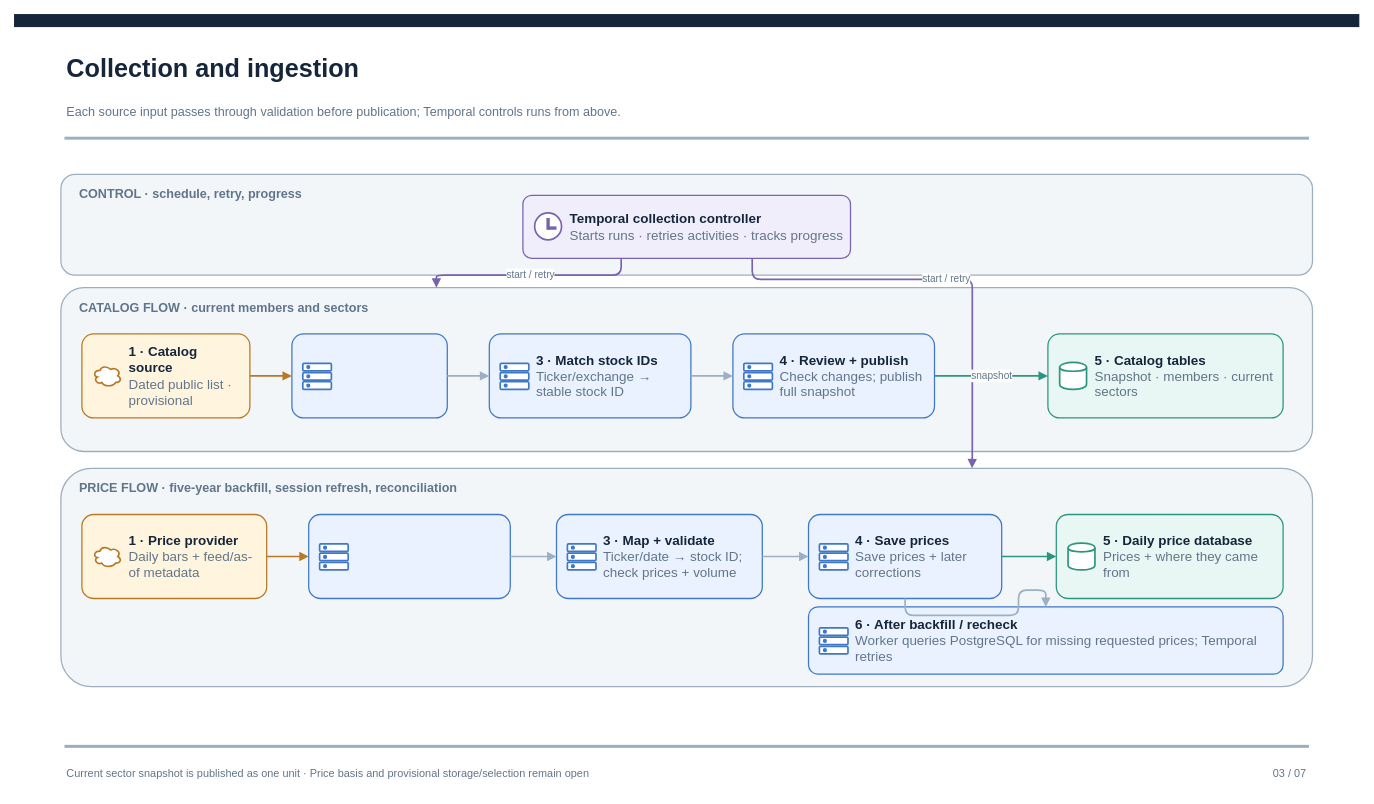
The diagram is 1374 pixels wide and 804 high, and some of its shapes have lost their labels. The box of each missing label's shape, as (x1, y1, x2, y2) in pixels:
2 · Fetch all pages Bounded symbols/dates · rate limit: (308, 513, 511, 599)
2 · Import rows Dated source rows: (291, 333, 448, 418)
